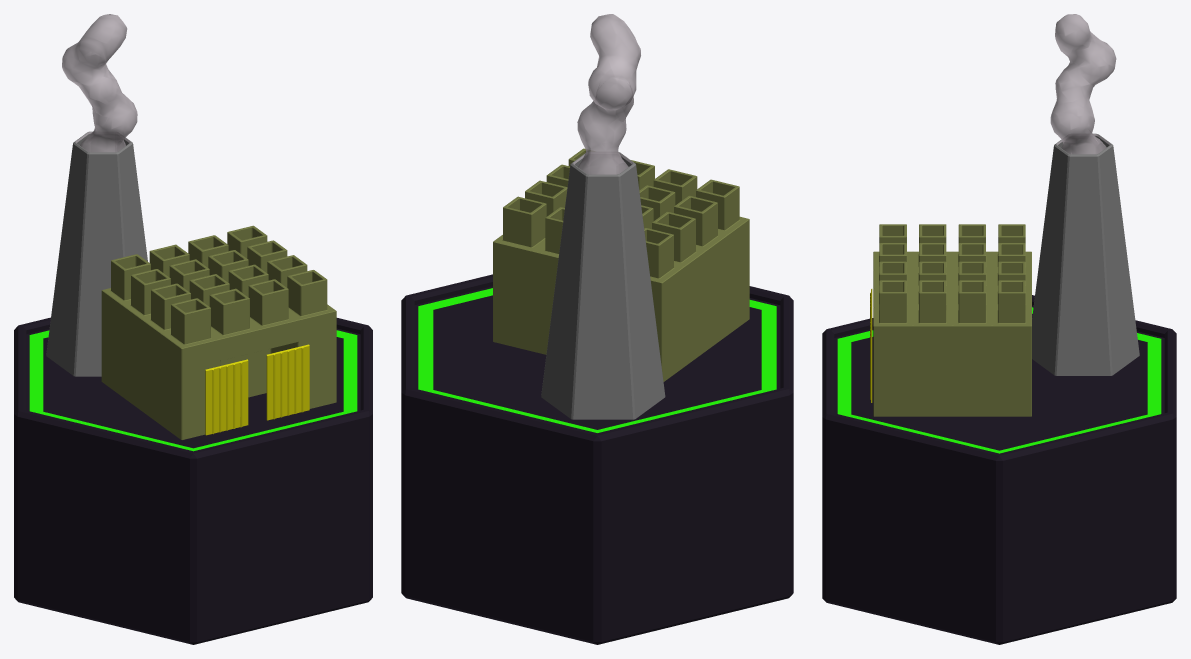
Rendered from coalpowerblock.fbx.
3 views of the same model, side by side, from view 1: azimuth 30°, elevation 25°; view 2: azimuth 150°, elevation 25°; view 3: azimuth 270°, elevation 25° (orthographic). The views are drawn at different scales.
Parts seen in each view (by area): view 1: BASE BLOCK, ph_power; view 2: BASE BLOCK, ph_power; view 3: BASE BLOCK, ph_power.
Boxes of the visible parts, x1,y1,x2,y2 form: BASE BLOCK: (14, 317, 372, 644); ph_power: (46, 14, 336, 439); BASE BLOCK: (401, 274, 793, 644); ph_power: (493, 14, 749, 419); BASE BLOCK: (822, 295, 1176, 644); ph_power: (870, 14, 1139, 416).
Size of the model in its own units: 23830 by 33901 by 20850.
